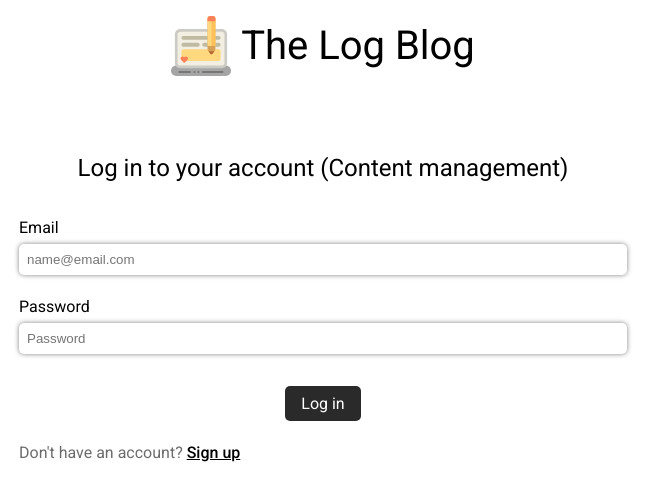
Login page component › should render an error if form is submitted with an invalid email or password
This screenshot has width=647, height=500.
Step 1. Type "invalid@email" into the field labelled "Email" → (323, 260), box [19,244,627,275]
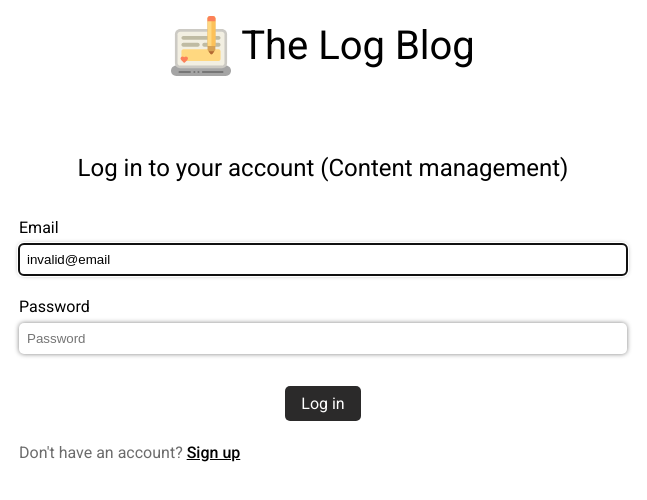
Step 2. Type "invalidPassword" into the password field labelled "Password" → (323, 338), box [19,323,627,354]
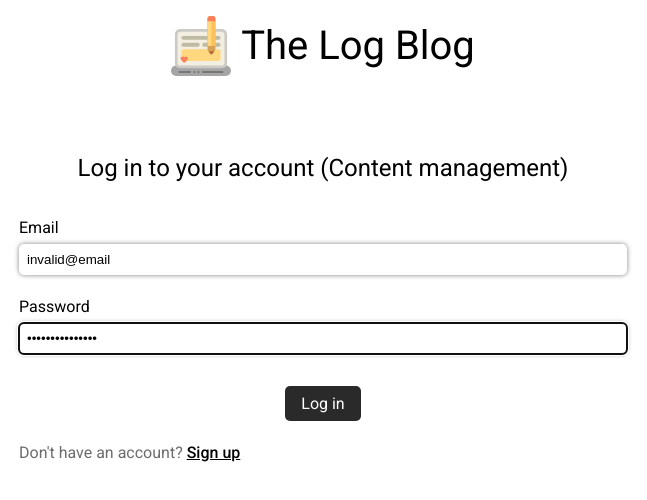
Step 3. Click the button "Log in" → click(323, 404), box [285,386,361,421]
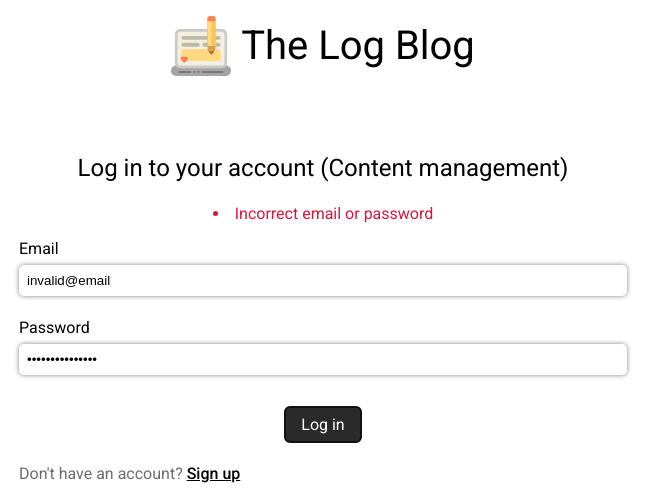
Expected: the list item reads "Incorrect email or password", [235,204,433,223]
